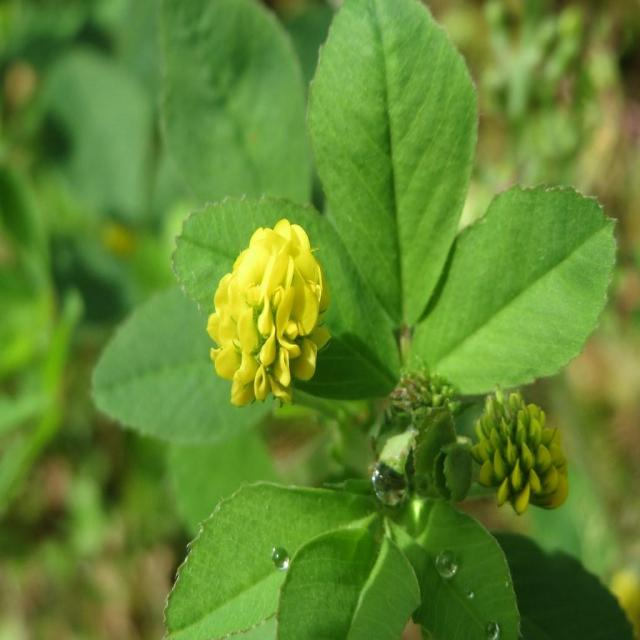organic waste: (198, 198, 342, 410)
